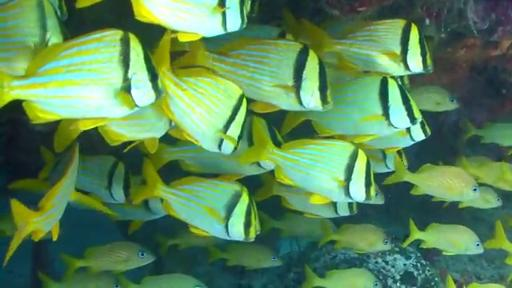Fish: (0, 29, 163, 123), (240, 119, 375, 203), (154, 33, 247, 154), (176, 40, 331, 112), (132, 159, 260, 241), (281, 70, 422, 142), (4, 144, 82, 266), (284, 12, 432, 75), (148, 116, 275, 179), (54, 101, 170, 152), (132, 0, 251, 41), (0, 0, 63, 75), (255, 174, 357, 217), (384, 156, 479, 201), (61, 241, 155, 278), (403, 220, 483, 255), (70, 156, 115, 215), (76, 156, 130, 203), (202, 24, 291, 51), (357, 120, 431, 152), (9, 148, 62, 191), (259, 212, 336, 241), (106, 198, 167, 234), (319, 224, 391, 252), (456, 156, 511, 191), (208, 244, 282, 269), (301, 265, 382, 287), (156, 230, 221, 255), (411, 85, 459, 111), (39, 272, 120, 287), (484, 220, 511, 264), (465, 122, 511, 147), (119, 274, 207, 287), (364, 149, 407, 173), (459, 187, 503, 208), (362, 185, 385, 204), (48, 0, 68, 20), (0, 214, 16, 236), (75, 0, 103, 8), (468, 283, 505, 287), (445, 275, 456, 287)
